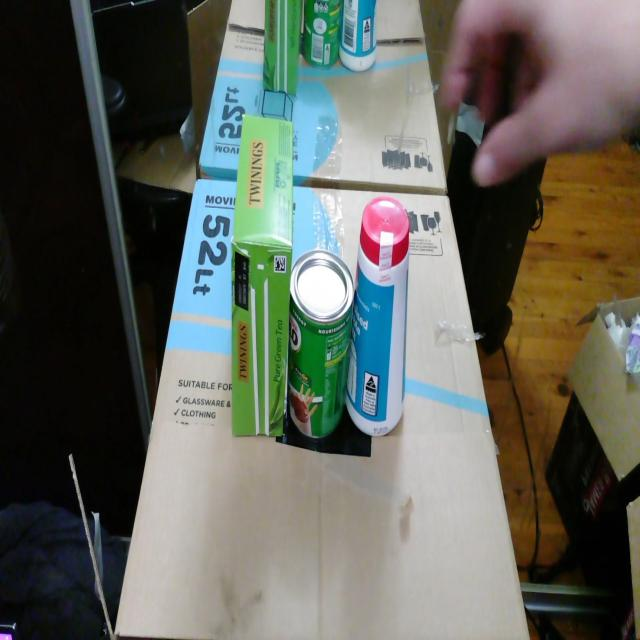nestle_milo_tin: (287, 250, 354, 439)
twinings_greentea_box: (231, 114, 293, 436)
woolworths_salt_bottle: (345, 196, 409, 437)
